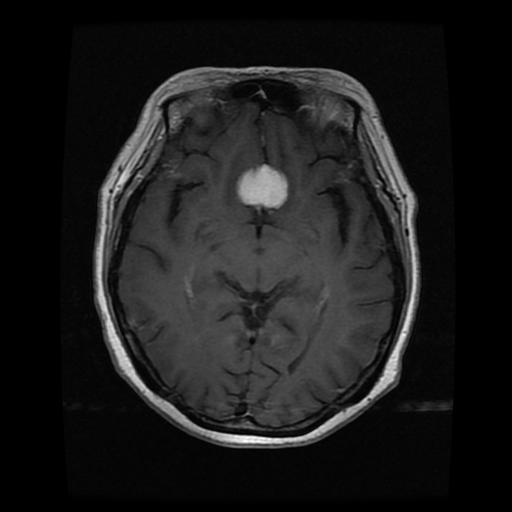Menigiomia_tumour: (237, 162, 288, 209)
